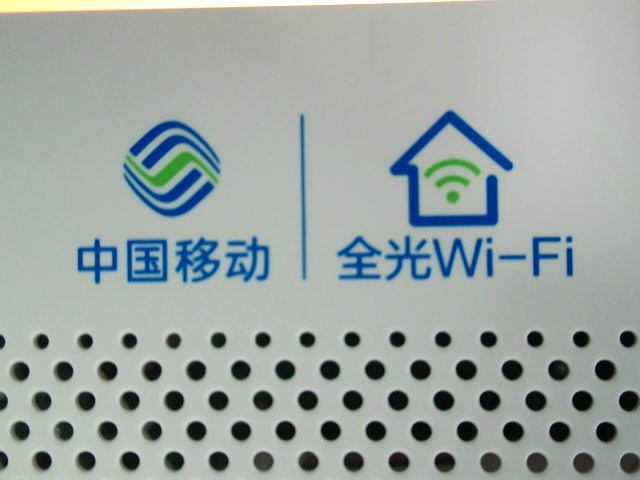BJ_QuanGuangMobile: (59, 105, 585, 292)
